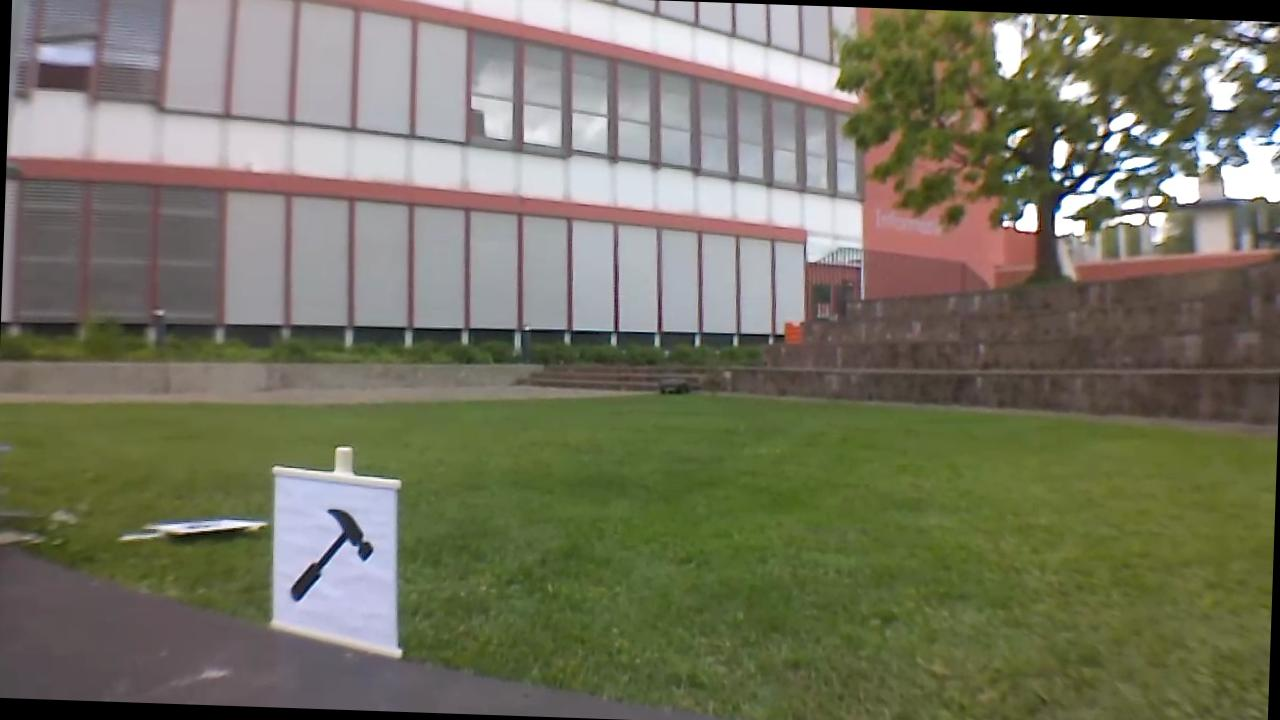hammer: (280, 497, 382, 612)
